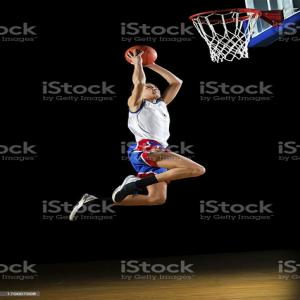Basket: (126, 44, 159, 67)
